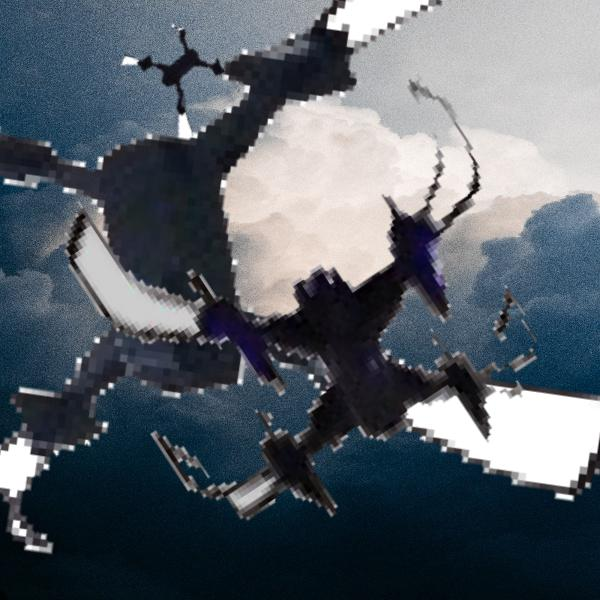drone: (86, 63, 564, 541), (110, 19, 248, 157)
